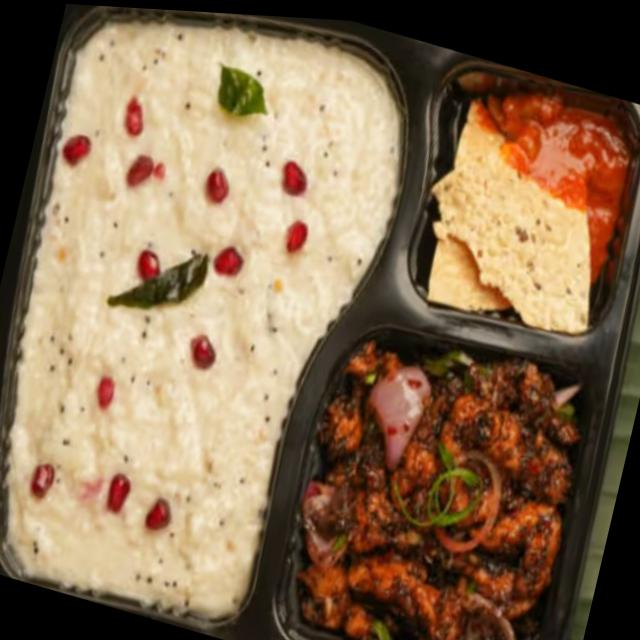CHICKEN FRY: (274, 312, 585, 640)
CURD RICE: (0, 6, 405, 633)
PAPADAM: (421, 106, 591, 327)
PICKLE: (508, 95, 639, 278)
